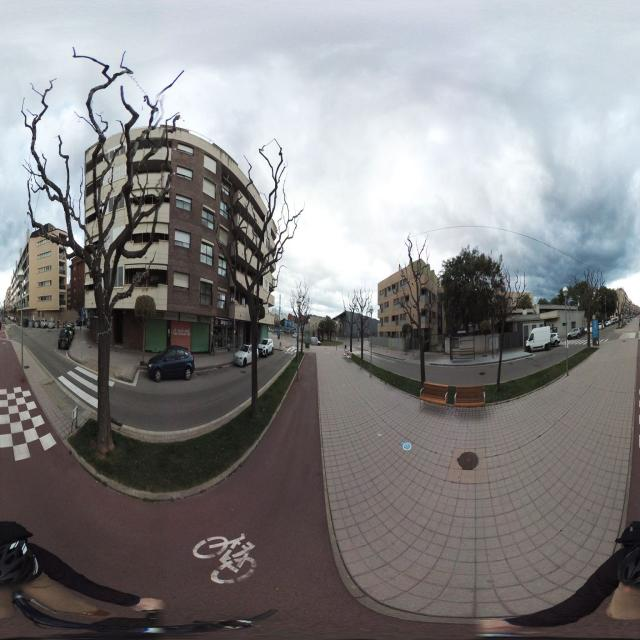forb_stopping: (234, 324, 236, 329)
